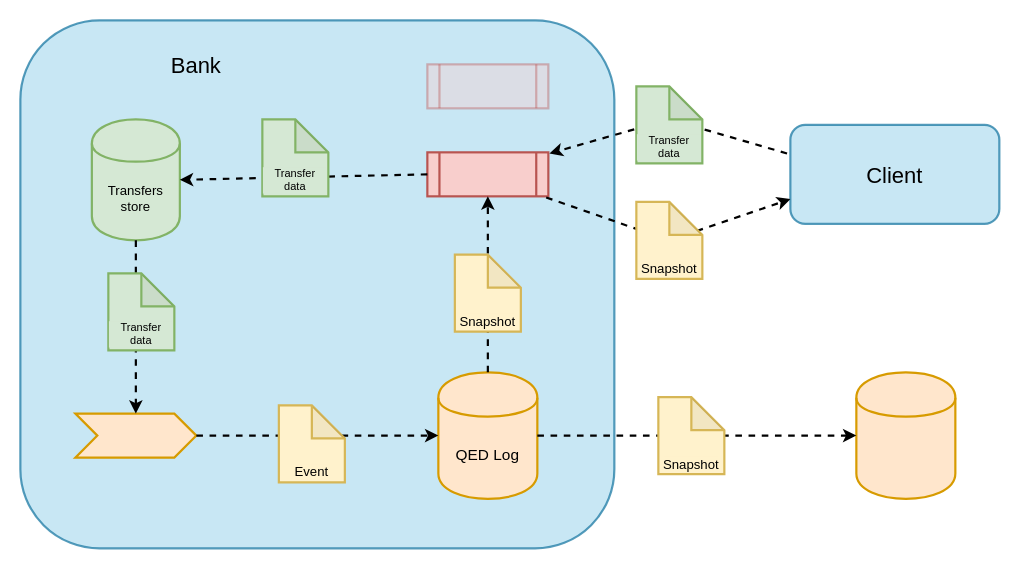
This 1019x576 diagram has some shape labels left out. Here are the shapes that lost their labels. From the top down, the box of each, then its label:
(426, 63, 549, 109): Transfers query service
(426, 151, 549, 197): Transfers write service
(74, 412, 197, 458): Mapping function
(855, 371, 956, 499): Snapshots store
